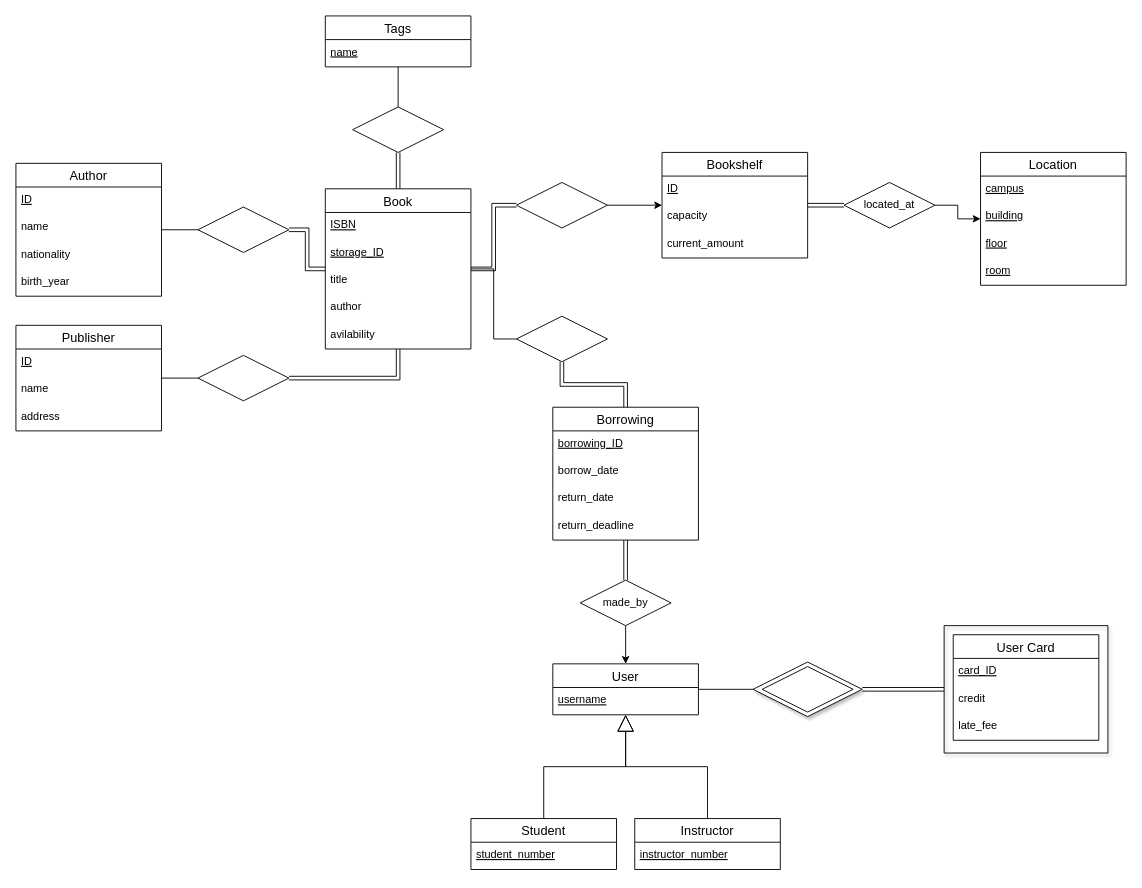
The diagram is 1142 pixels wide and 888 high, and some of its shapes have lost their labels. The shapes that lost their labels are listed below. From the top down, each one's centre as x and y in pixels, then its label:
point (398, 129): has_tags
point (561, 205): stored_in
point (243, 229): written_by
point (561, 338): include
point (243, 377): published_by
point (807, 689): has
